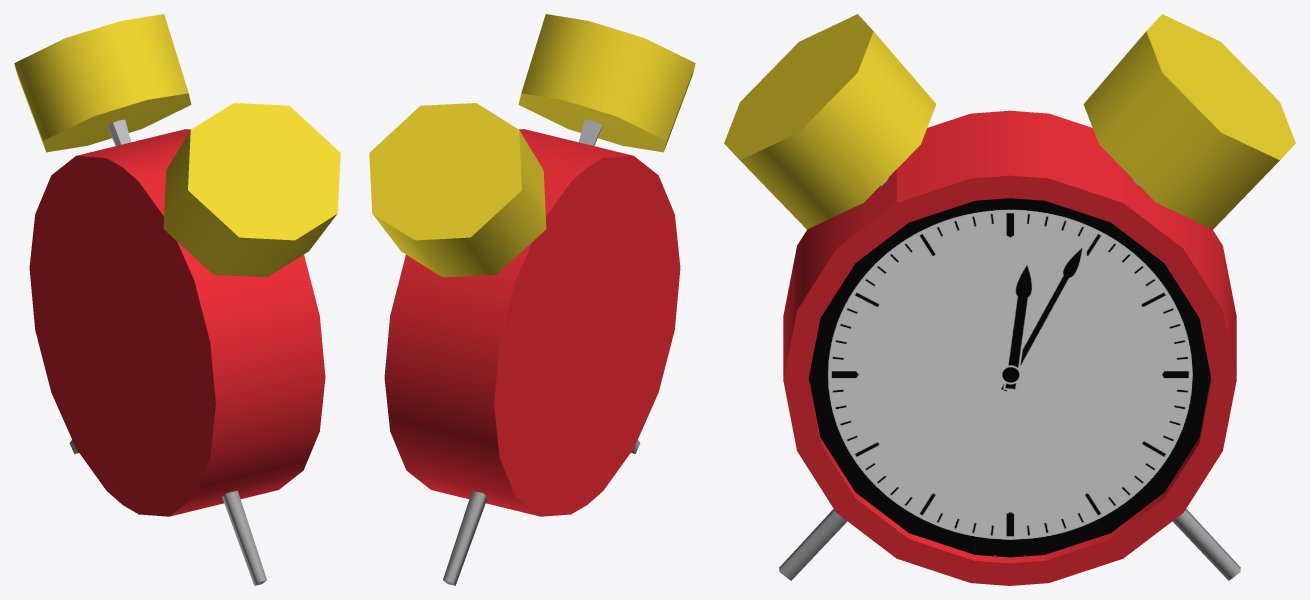
File: clock.FBX
The picture shows the model from 3 angles, left to right: view 1: azimuth 30°, elevation 25°; view 2: azimuth 150°, elevation 25°; view 3: azimuth 270°, elevation 25°; orthographic projection. The views are drawn at different scales.
Visible parts, largest first — view 1: Cylinder002; view 2: Cylinder002; view 3: Cylinder002.
Part boxes in pixels (<box>): Cylinder002: <box>14,14,340,585</box>; Cylinder002: <box>369,14,695,585</box>; Cylinder002: <box>724,14,1295,585</box>.
Size of the model in its own units: 54.35 by 155 by 145.
Materials: 1 (1 with a texture image).
